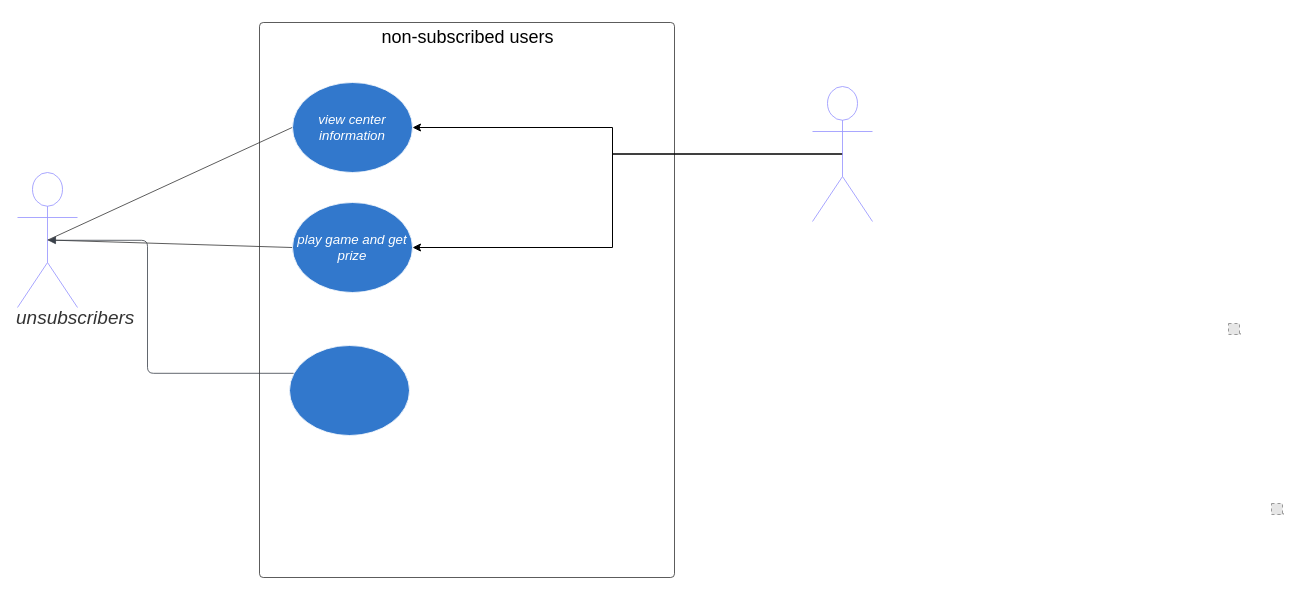
This 1301x595 diagram has some shape labels left out. Grey dashed boxes stand in for pictures. The centre of each missing label's shape, as x and y in pixels:
"all users" belongs at pixel 842 153.
"Create Account and Subscribe" belongs at pixel 349 390.
